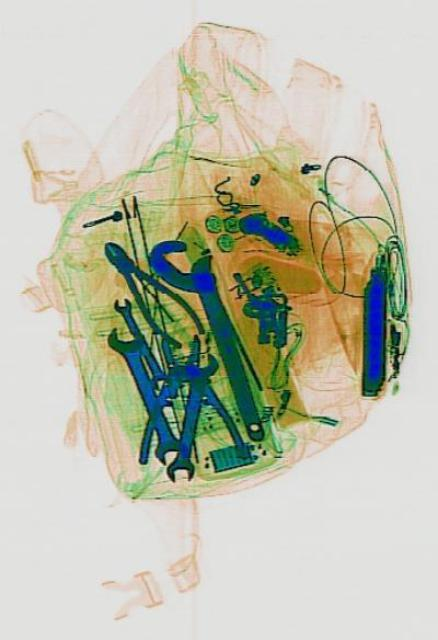Pliers: (125, 323, 243, 469), (91, 220, 206, 364)
Wrench: (101, 311, 190, 474), (159, 346, 218, 488), (108, 290, 169, 398)
